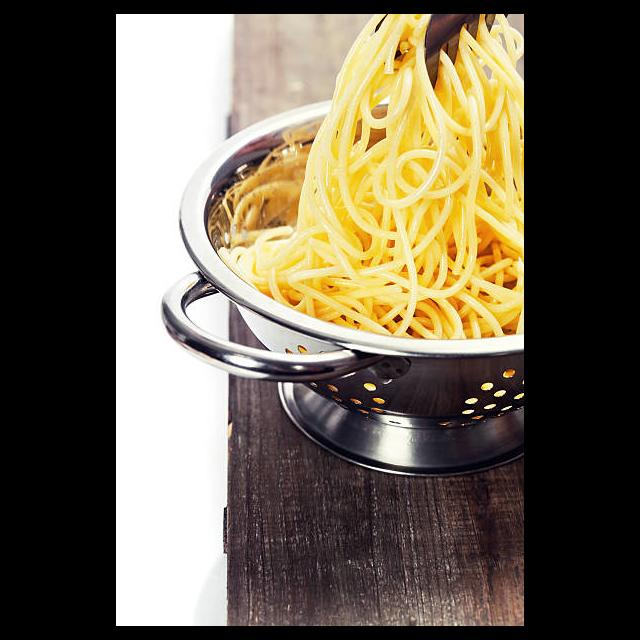noodles: (215, 14, 524, 339)
